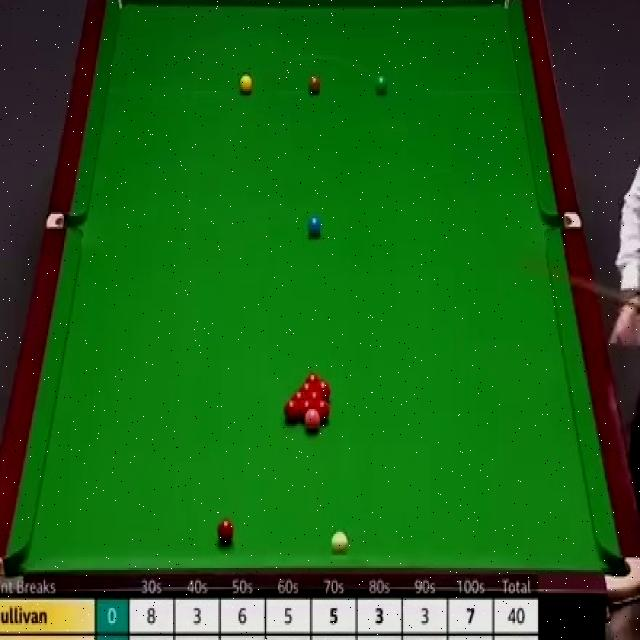blue-ball: (308, 216, 322, 238)
brown-ball: (309, 74, 322, 95)
green-ball: (375, 74, 390, 97)
pink-ball: (304, 409, 320, 432)
red-ball: (216, 518, 234, 546), (314, 400, 332, 423), (284, 399, 300, 424), (300, 399, 314, 421), (315, 380, 329, 402), (304, 373, 324, 386), (291, 389, 306, 405), (305, 390, 323, 403), (298, 382, 315, 393)
white-ball: (329, 530, 349, 555)
yellow-ball: (238, 74, 254, 95)
